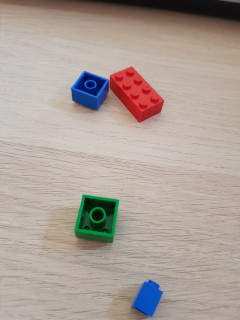1x1 blue: (130, 281, 166, 316)
2x2 blue: (71, 70, 110, 111)
2x2 green: (75, 194, 121, 243)
2x4 red: (110, 66, 165, 123)
